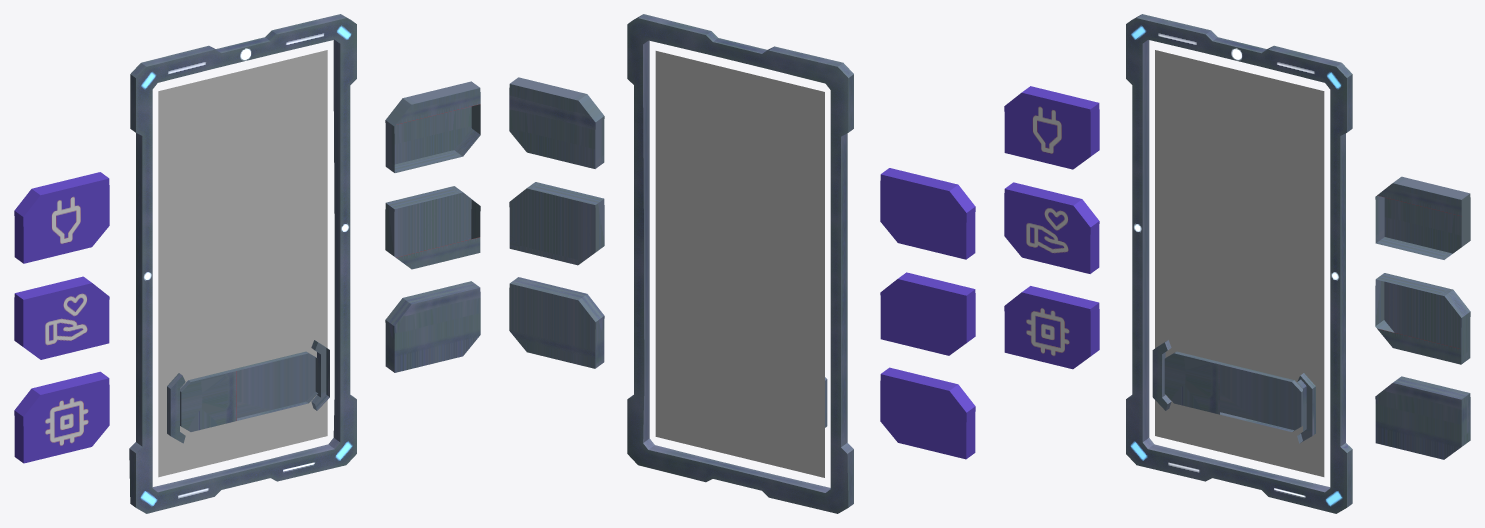
File: WebAr Tarjeta (Unity) (3).fbx
The picture shows the model from 3 angles, left to right: view 1: azimuth 30°, elevation 25°; view 2: azimuth 150°, elevation 25°; view 3: azimuth 330°, elevation 25°; orthographic projection.
Visible parts, largest first — view 1: Plano de Panafoto, Frame, Templato de imagenes, Cube.021, Otros productos, Consumo, Tecnologia, Garantia, Info, Durabilidad, Cube.022; view 2: Plano de Panafoto, Frame, Templato de imagenes, Consumo, Tecnologia, Garantia, Otros productos, Info, Durabilidad; view 3: Plano de Panafoto, Frame, Templato de imagenes, Cube.021, Info, Durabilidad, Garantia, Consumo, Otros productos, Tecnologia, Cube.022.
Part boxes in pixels (x1,y1,x2,y2): Plano de Panafoto: (158, 50, 327, 477); Frame: (129, 14, 356, 513); Templato de imagenes: (167, 137, 317, 331); Cube.021: (180, 351, 318, 431); Otros productos: (385, 281, 480, 372); Consumo: (14, 172, 109, 263); Tecnologia: (14, 371, 109, 463); Garantia: (385, 81, 480, 172); Info: (385, 186, 480, 269); Durabilidad: (14, 276, 109, 359); Cube.022: (167, 340, 329, 443); Plano de Panafoto: (655, 51, 824, 477); Frame: (627, 14, 853, 513); Templato de imagenes: (665, 138, 815, 332); Consumo: (880, 168, 975, 259); Tecnologia: (880, 367, 975, 459); Garantia: (509, 77, 604, 168); Otros productos: (509, 277, 604, 368); Info: (509, 182, 604, 265); Durabilidad: (880, 272, 975, 355); Plano de Panafoto: (1155, 50, 1324, 476); Frame: (1126, 14, 1352, 513); Templato de imagenes: (1164, 137, 1314, 331); Cube.021: (1164, 351, 1302, 431); Info: (1375, 273, 1470, 364); Durabilidad: (1004, 182, 1099, 273); Garantia: (1375, 176, 1470, 259); Consumo: (1004, 86, 1099, 169); Otros productos: (1375, 376, 1470, 459); Tecnologia: (1004, 286, 1099, 369); Cube.022: (1152, 340, 1315, 443).
Bounding box in the file's own units: 1389 × 1297 × 58.43.
